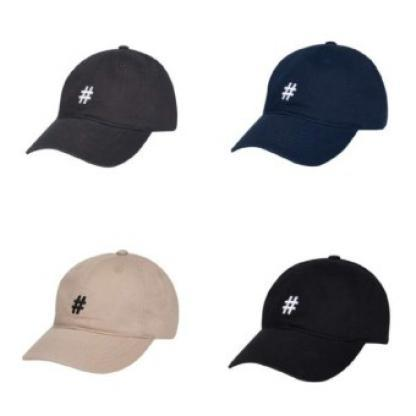cap: (214, 249, 400, 384), (219, 34, 395, 169), (13, 245, 188, 377), (20, 35, 184, 175)
